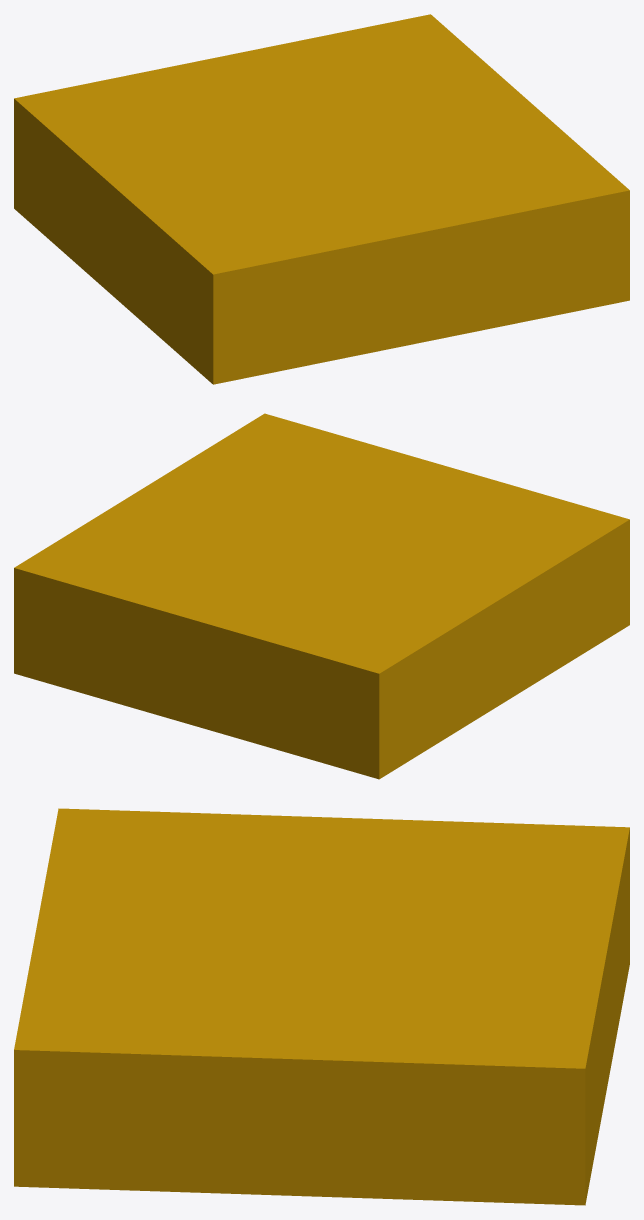
3 views of the same model, one above another, from view 1: azimuth 30°, elevation 25°; view 2: azimuth 150°, elevation 25°; view 3: azimuth 270°, elevation 25° (orthographic). The views are drawn at different scales.
Visible parts, largest first — view 1: Cube; view 2: Cube; view 3: Cube.
Part boxes in pixels (<box>): Cube: <box>14,14,629,384</box>; Cube: <box>14,413,629,779</box>; Cube: <box>14,808,629,1205</box>.
Bounding box in the file's own units: 4.3 × 1.05 × 4.3.
